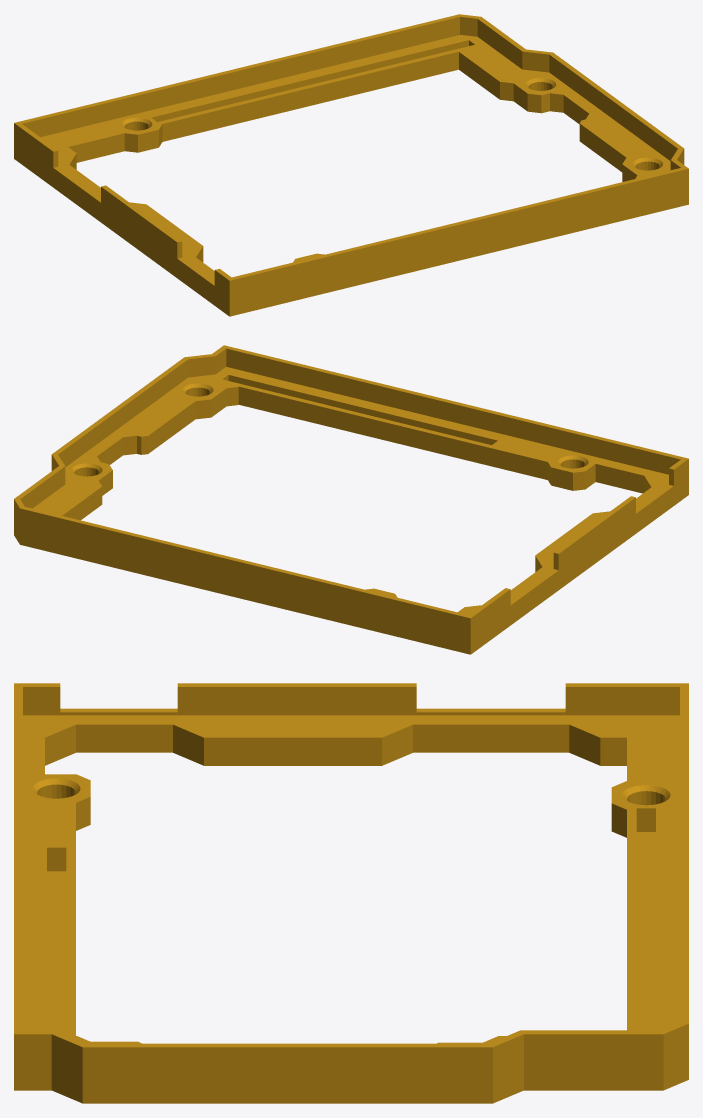
The model's file is SuportArduino.glb.
3 renders of one model, top to bottom at view 1: azimuth 30°, elevation 25°; view 2: azimuth 150°, elevation 25°; view 3: azimuth 270°, elevation 25°, orthographic. The views are drawn at different scales.
Visible parts, largest first — view 1: Mesh_0.006; view 2: Mesh_0.006; view 3: Mesh_0.006.
Boxes of the visible parts, x1,y1,x2,y2 form: Mesh_0.006: (14,14,688,316); Mesh_0.006: (14,345,688,654); Mesh_0.006: (14,683,688,1103).
Bounding box in the file's own units: 70.46 × 5.08 × 55.22.
